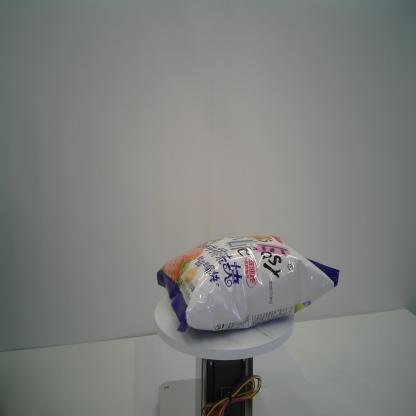Puffed Food: (156, 234, 340, 334)
